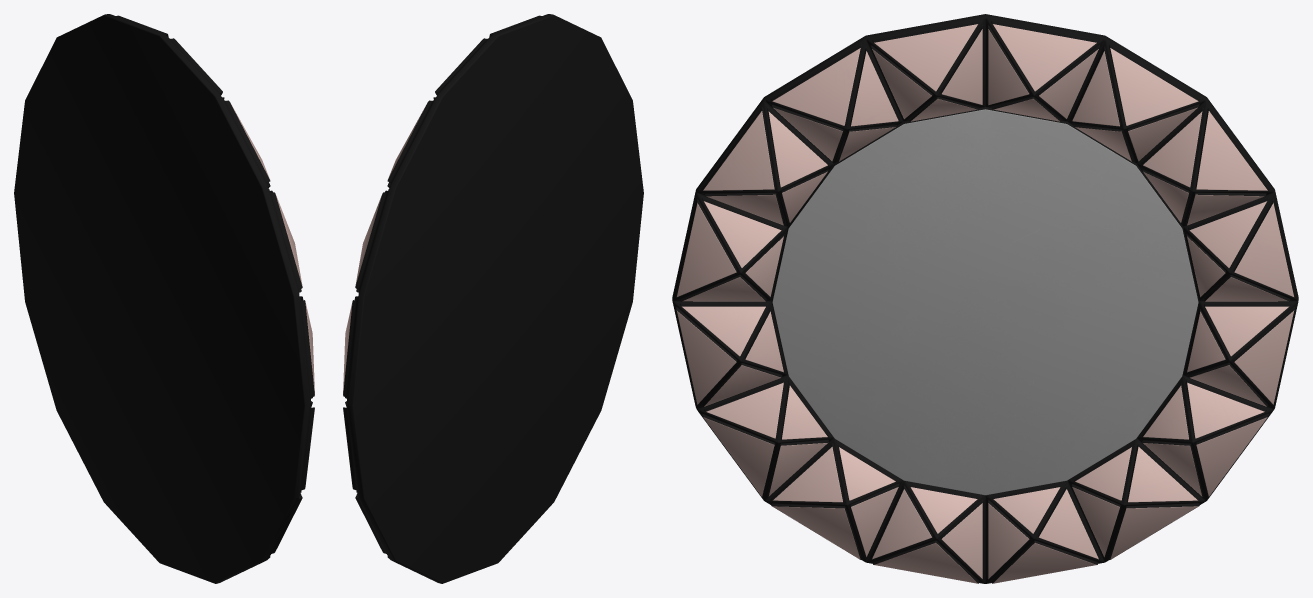
The model's file is mirror.glb.
3 renders of one model, left to right at view 1: azimuth 30°, elevation 25°; view 2: azimuth 150°, elevation 25°; view 3: azimuth 270°, elevation 25°, orthographic. The views are drawn at different scales.
Parts seen in each view (by area): view 1: Object_2, Object_4; view 2: Object_2, Object_4; view 3: Object_3, Object_4, Object_2.
Boxes of the visible parts, <box> form: Object_2: <box>14,14,314,583</box>; Object_4: <box>177,41,314,484</box>; Object_2: <box>343,14,643,583</box>; Object_4: <box>343,41,480,484</box>; Object_3: <box>772,109,1198,495</box>; Object_4: <box>676,24,1294,583</box>; Object_2: <box>672,14,1298,583</box>.
Bounding box in the file's own units: 0.0597 × 0.8 × 0.8.
3 materials, 3 textured.
